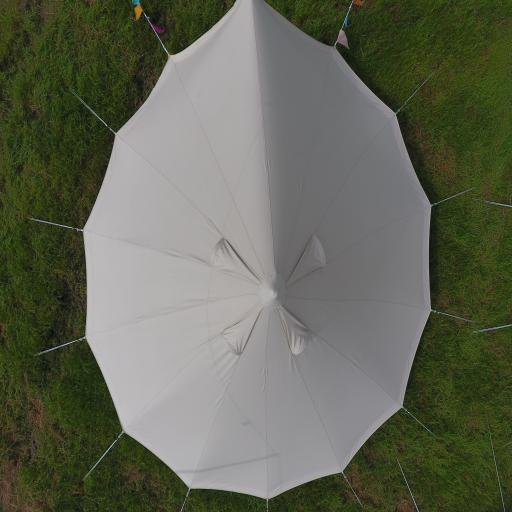Tent: (79, 4, 450, 496)
